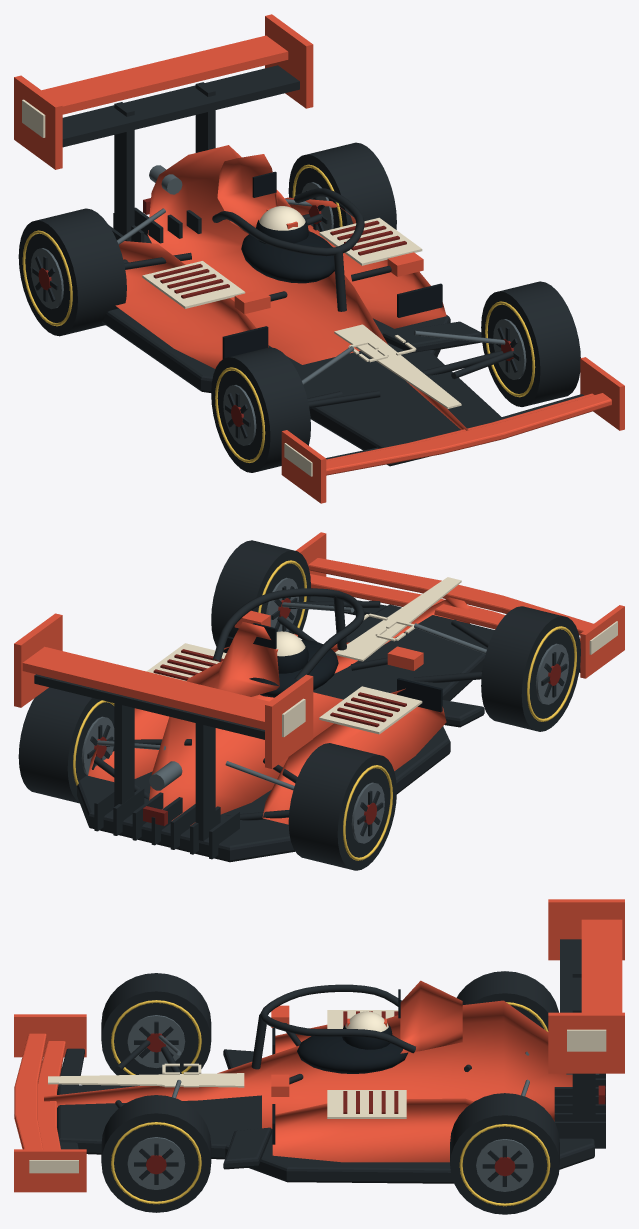
Rendered from formula-r1.glb.
3 renders of one model, top to bottom at view 1: azimuth 30°, elevation 25°; view 2: azimuth 150°, elevation 25°; view 3: azimuth 270°, elevation 25°, orthographic. The views are drawn at different scales.
Parts seen in each view (by area): view 1: body-0, tire (×4), body-2, body-1, body-5, body-6, body-3; view 2: body-0, tire (×4), body-2, body-1, body-5, body-6, body-3; view 3: body-0, tire (×4), body-2, body-1, body-5, body-6.
Boxes of the visible parts, x1,y1,x2,y2 form: body-0: (14, 14, 624, 503); tire (×4): (18, 142, 580, 472); body-2: (62, 65, 583, 466); body-1: (22, 99, 461, 476); body-5: (222, 171, 442, 359); body-6: (143, 198, 406, 298); body-3: (117, 165, 505, 384); body-0: (14, 532, 624, 825); tire (×4): (18, 540, 580, 870); body-2: (34, 588, 580, 862); body-1: (146, 577, 617, 737); body-5: (223, 623, 442, 712); body-6: (143, 649, 406, 825); body-3: (97, 602, 486, 790); body-0: (14, 899, 624, 1192); tire (×4): (101, 971, 559, 1214); body-2: (57, 939, 605, 1183); body-1: (29, 1010, 606, 1173); body-5: (272, 989, 407, 1144); body-6: (343, 1011, 605, 1113).
Bounding box in the file's own units: 2.74 × 1.6 × 4.78.
